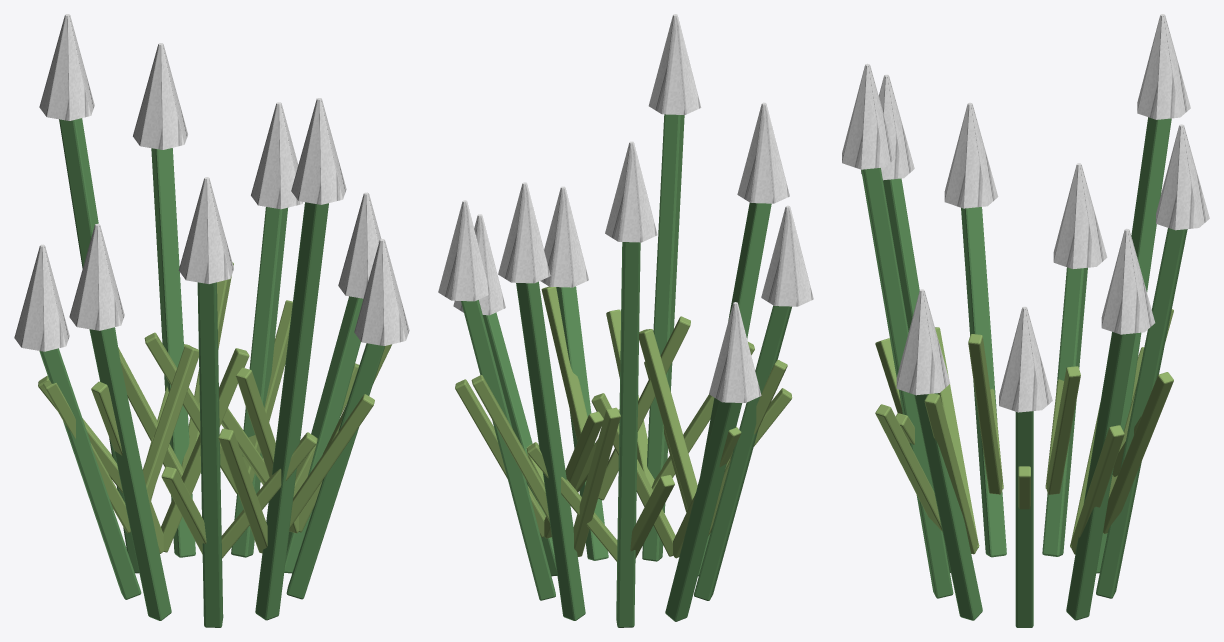
File: reed_clump.glb
3 renders of one model, left to right at view 1: azimuth 30°, elevation 25°; view 2: azimuth 150°, elevation 25°; view 3: azimuth 270°, elevation 25°, orthographic. The views are drawn at different scales.
Visible parts, largest first — view 1: RiverReedClump_Geometry; view 2: RiverReedClump_Geometry; view 3: RiverReedClump_Geometry.
Part boxes in pixels (box(x1,y1,x2,y2)): RiverReedClump_Geometry: box(14, 14, 409, 627); RiverReedClump_Geometry: box(438, 14, 813, 627); RiverReedClump_Geometry: box(842, 14, 1209, 627).
Size of the model in its own units: 0.7667 by 1.15 by 0.7151.
Materials: 3 (1 with a texture image).
